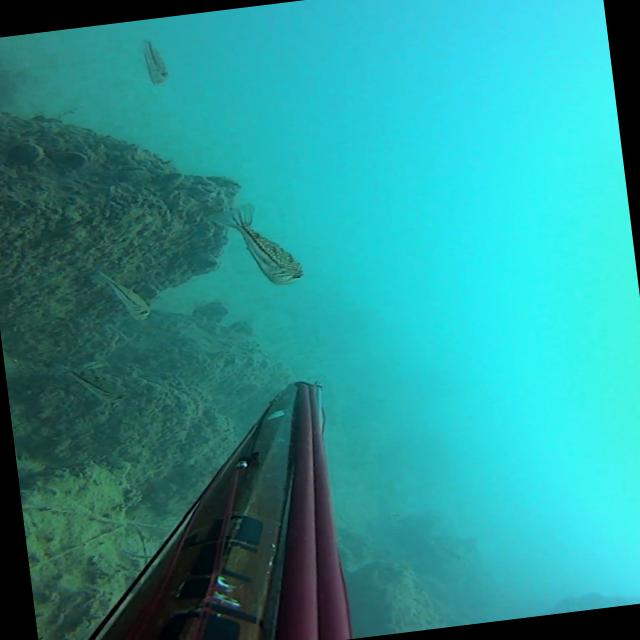Balon Baligi: (205, 198, 305, 292), (53, 354, 127, 408), (94, 266, 150, 324), (141, 36, 169, 86)
